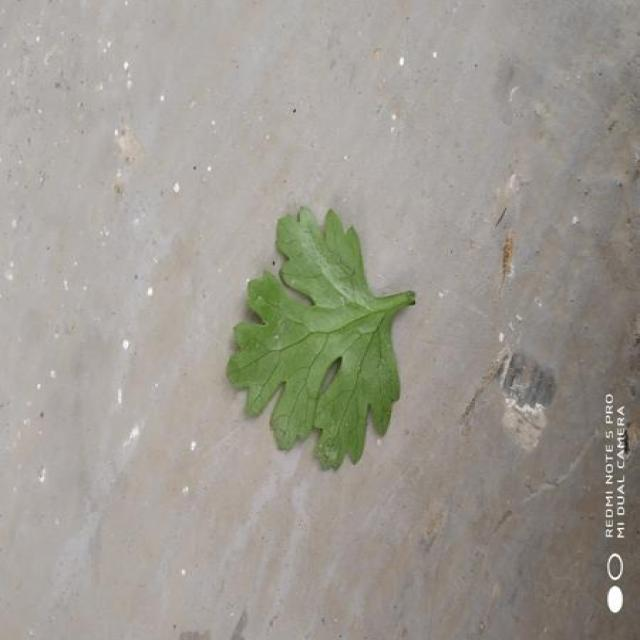coriender: (227, 208, 415, 469)
